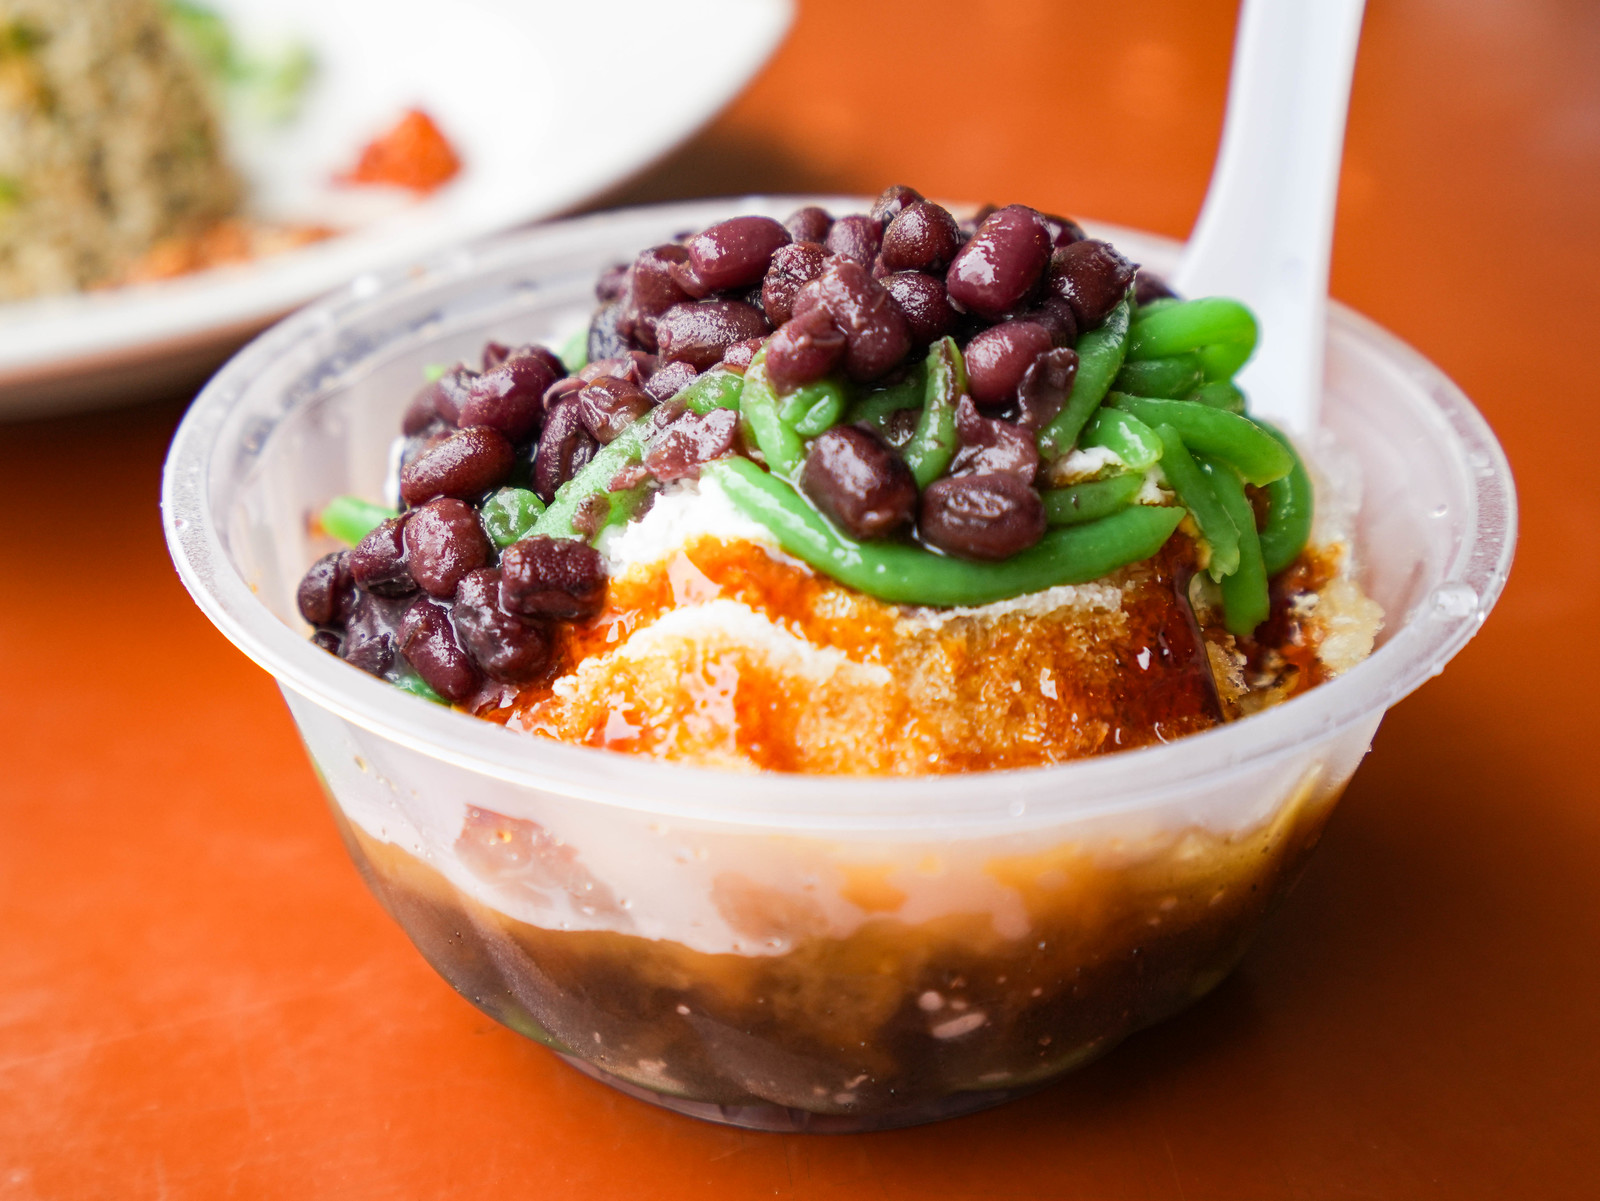Chendol: (236, 218, 1392, 1005)
